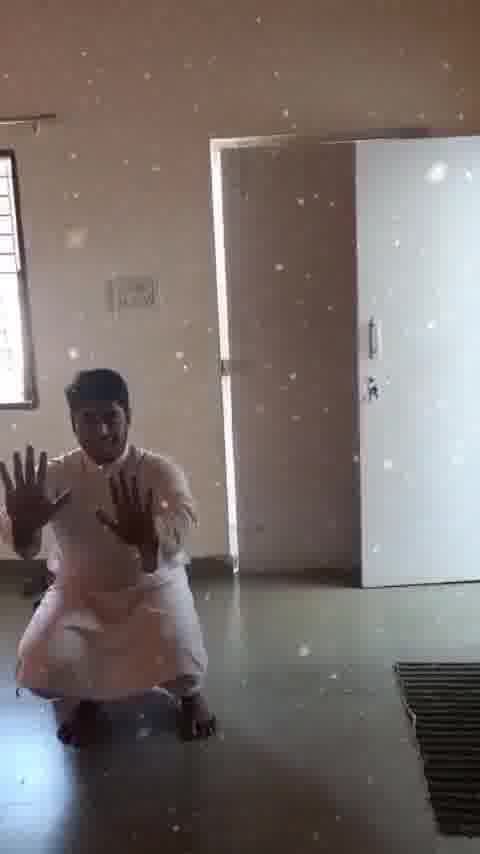duck: (9, 372, 236, 745)
